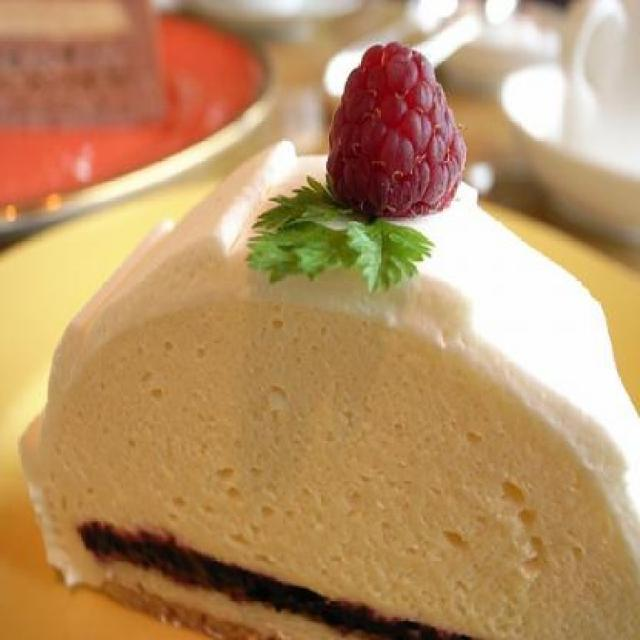Rare cheese cake: (11, 39, 640, 638)
